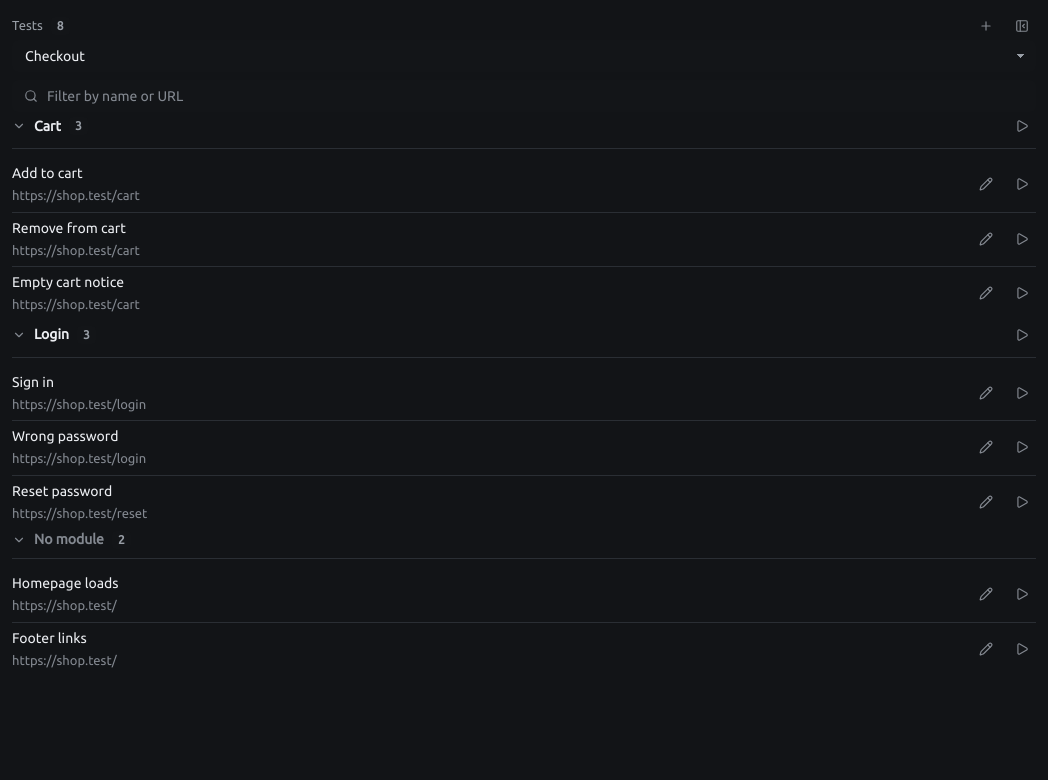
Test: SavedTests filtering › matches on name and on start URL, across every group
Step 1. Type "cart" into the search field named "Filter tests" → [524, 96], box [12,80,1036,112]
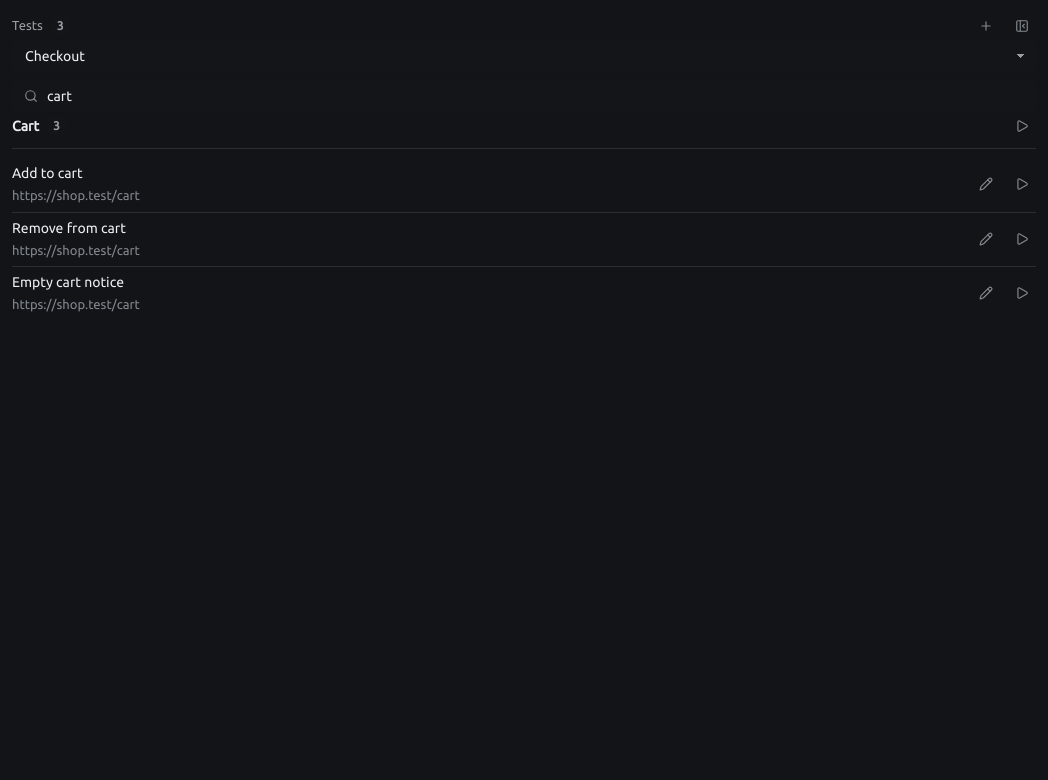
Step 2. Replace the text in the search field named "Filter tests" with "shop.test/login" → [524, 96], box [12,80,1036,112]
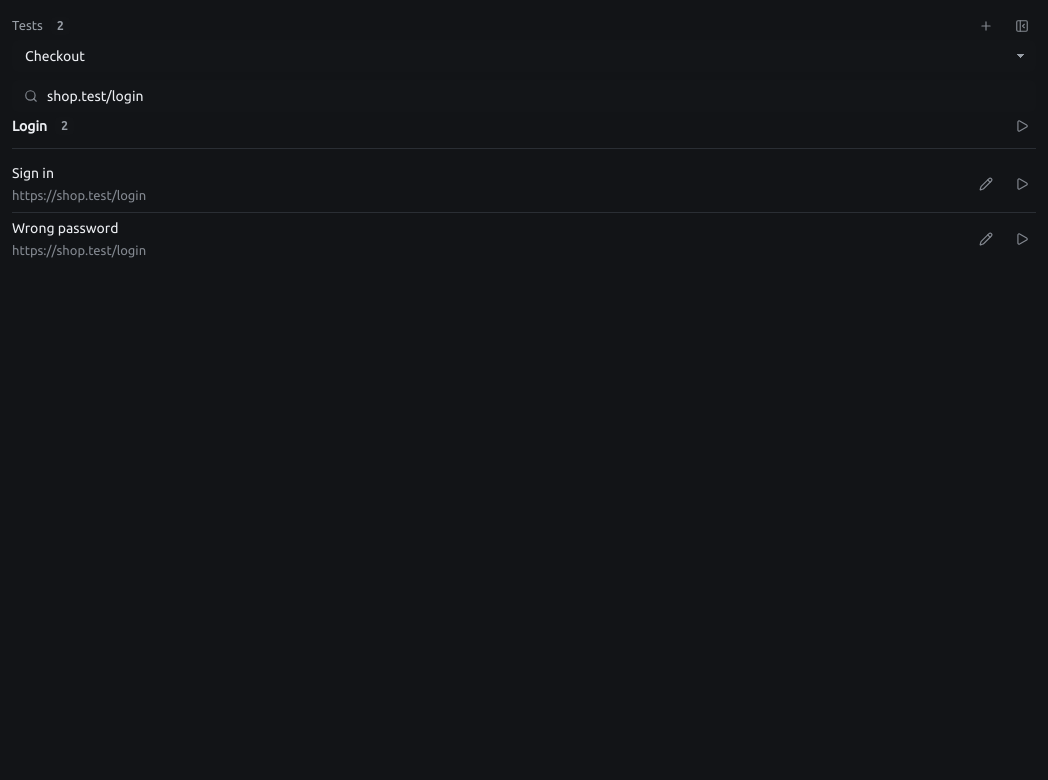
Expected: the text "Cart" is gone
